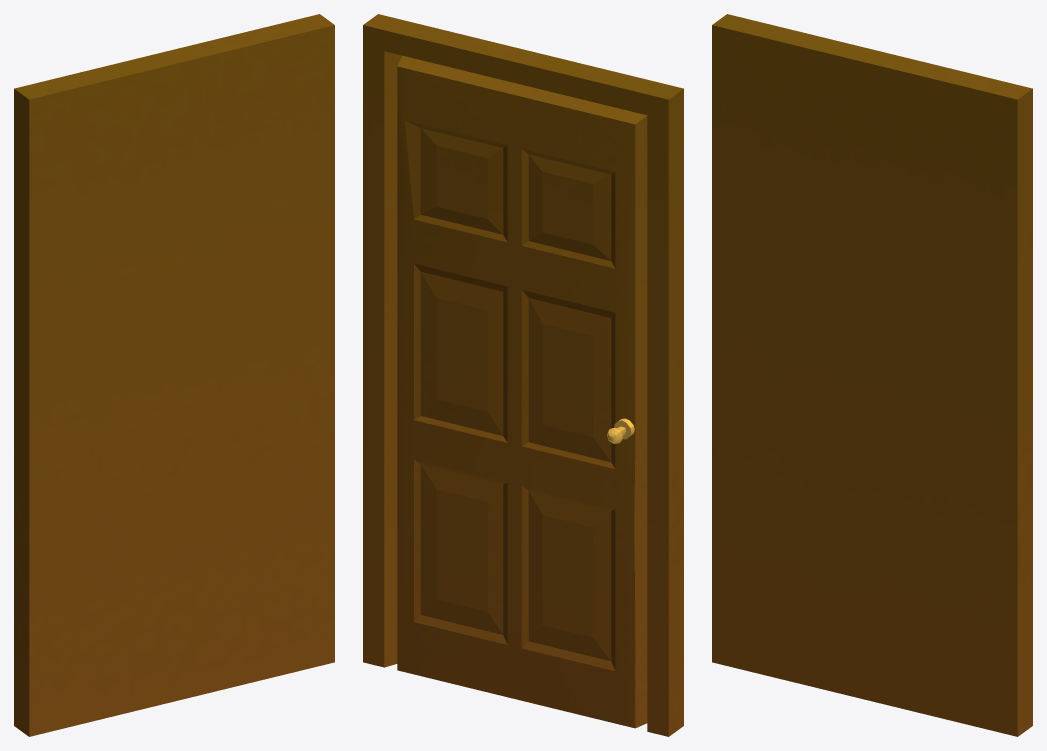
The model's file is door.fbx.
3 views of the same model, side by side, from view 1: azimuth 30°, elevation 25°; view 2: azimuth 150°, elevation 25°; view 3: azimuth 330°, elevation 25° (orthographic).
Visible parts, largest first — view 1: door; view 2: door; view 3: door.
Part boxes in pixels (x1,y1,x2,y2): door: [14, 14, 334, 736]; door: [363, 14, 683, 736]; door: [712, 14, 1032, 736].
Bounding box in the file's own units: 1.07 × 2.12 × 0.1813.
